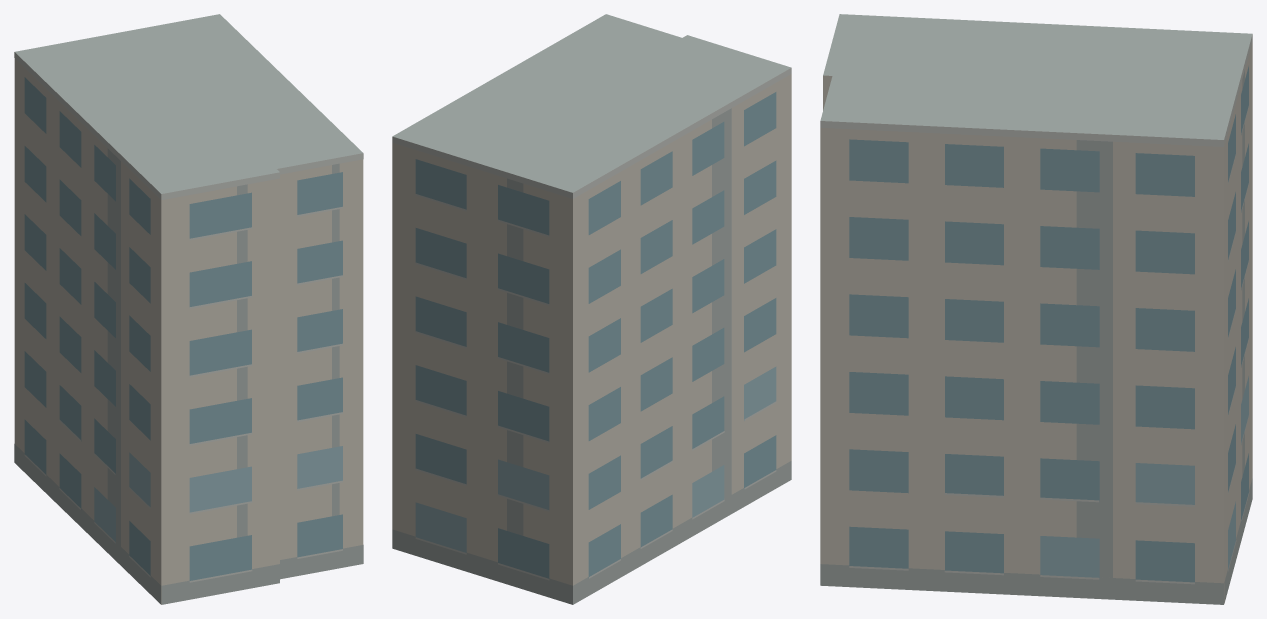
The model's file is survey-upis-32794683.glb.
3 views of the same model, side by side, from view 1: azimuth 30°, elevation 25°; view 2: azimuth 150°, elevation 25°; view 3: azimuth 270°, elevation 25° (orthographic). The views are drawn at different scales.
Visible parts, largest first — view 1: survey-upis-32794683.tmp; view 2: survey-upis-32794683.tmp; view 3: survey-upis-32794683.tmp.
Part boxes in pixels (x1=…): survey-upis-32794683.tmp: x1=14, y1=14, x2=363, y2=604; survey-upis-32794683.tmp: x1=392, y1=14, x2=791, y2=604; survey-upis-32794683.tmp: x1=820, y1=14, x2=1252, y2=604.
Bounding box in the file's own units: 9.55 × 16.4 × 13.83.
